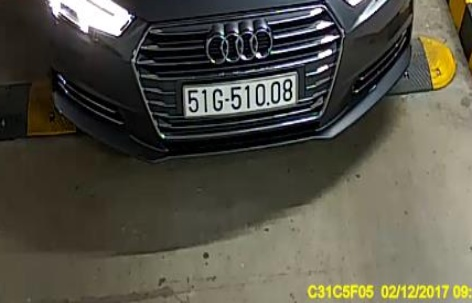plate: (180, 72, 300, 119)
